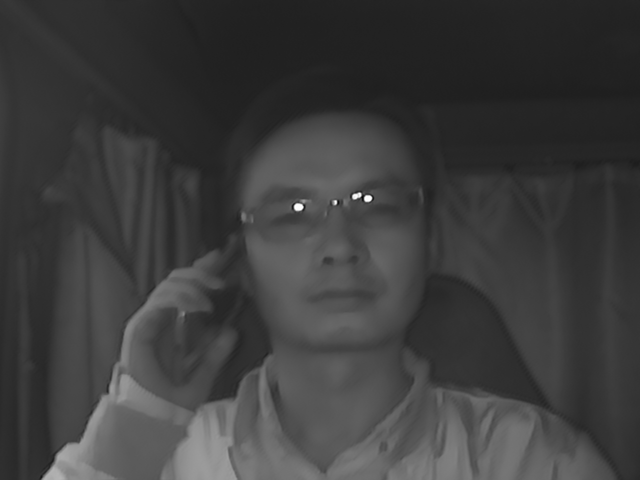hand: (122, 251, 237, 398)
